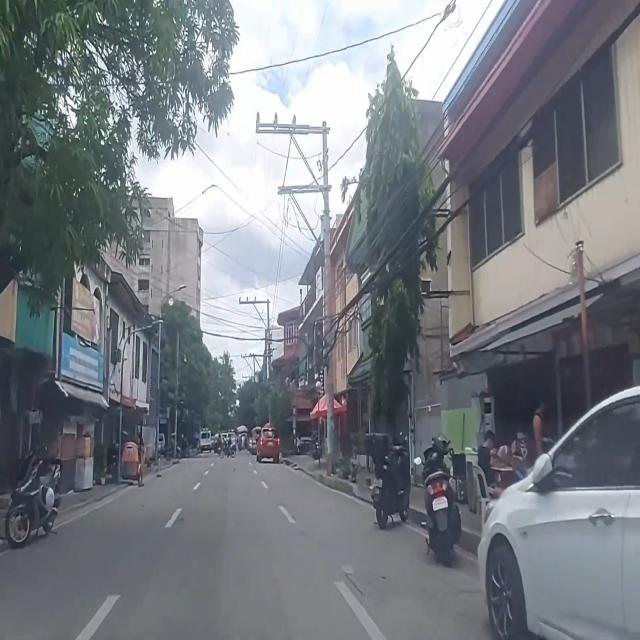car: (476, 383, 640, 639), (256, 428, 281, 464)
motorcycle: (5, 444, 64, 546), (419, 431, 462, 568), (366, 432, 410, 532)
tricycle: (111, 439, 144, 486)
truck: (200, 429, 211, 453)
